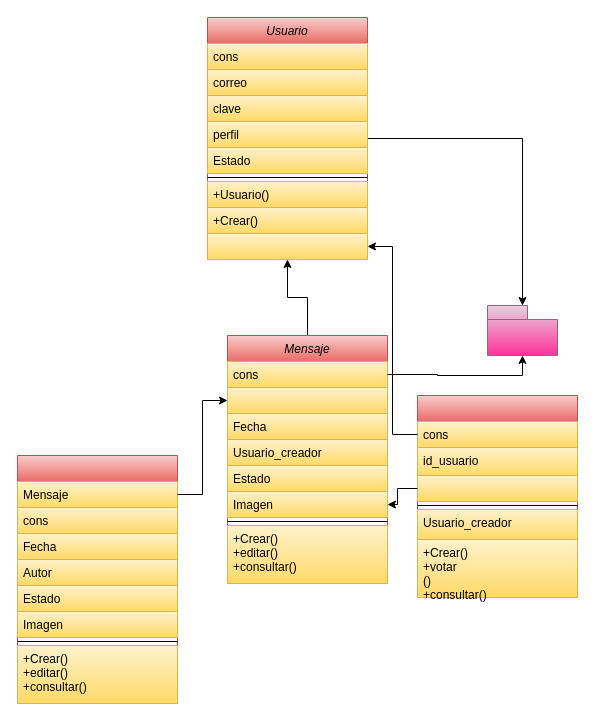
Some shapes in this 595 by 724 pixel diagram are drawn without their labels. Each missing label, with the box of its shape:
+Editar(): (206, 232, 368, 260)
Cartelera: (16, 454, 178, 704)
Descripción: (226, 386, 388, 414)
Ecoverde: (486, 304, 558, 356)
id_mensaje: (416, 474, 578, 502)
Votacion: (416, 394, 578, 598)
